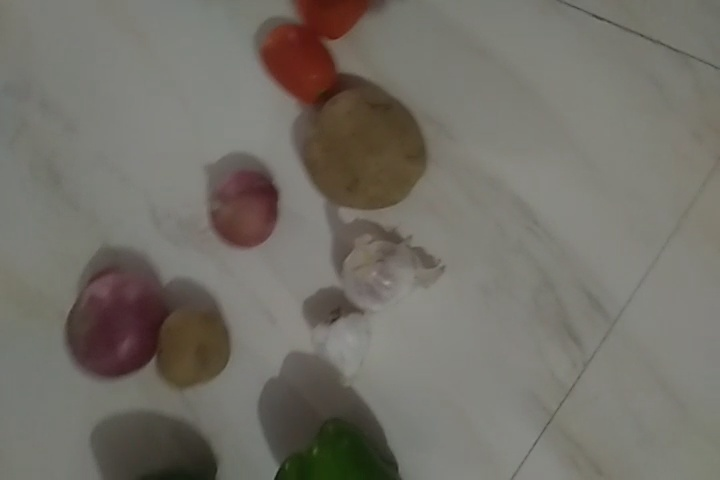capsicum: (270, 420, 396, 480)
garlic: (339, 239, 418, 301), (316, 310, 372, 376)
onion: (64, 270, 158, 376), (206, 160, 275, 251)
potato: (298, 89, 436, 205), (158, 309, 230, 385)
tomato: (258, 22, 333, 102), (290, 1, 376, 35)
